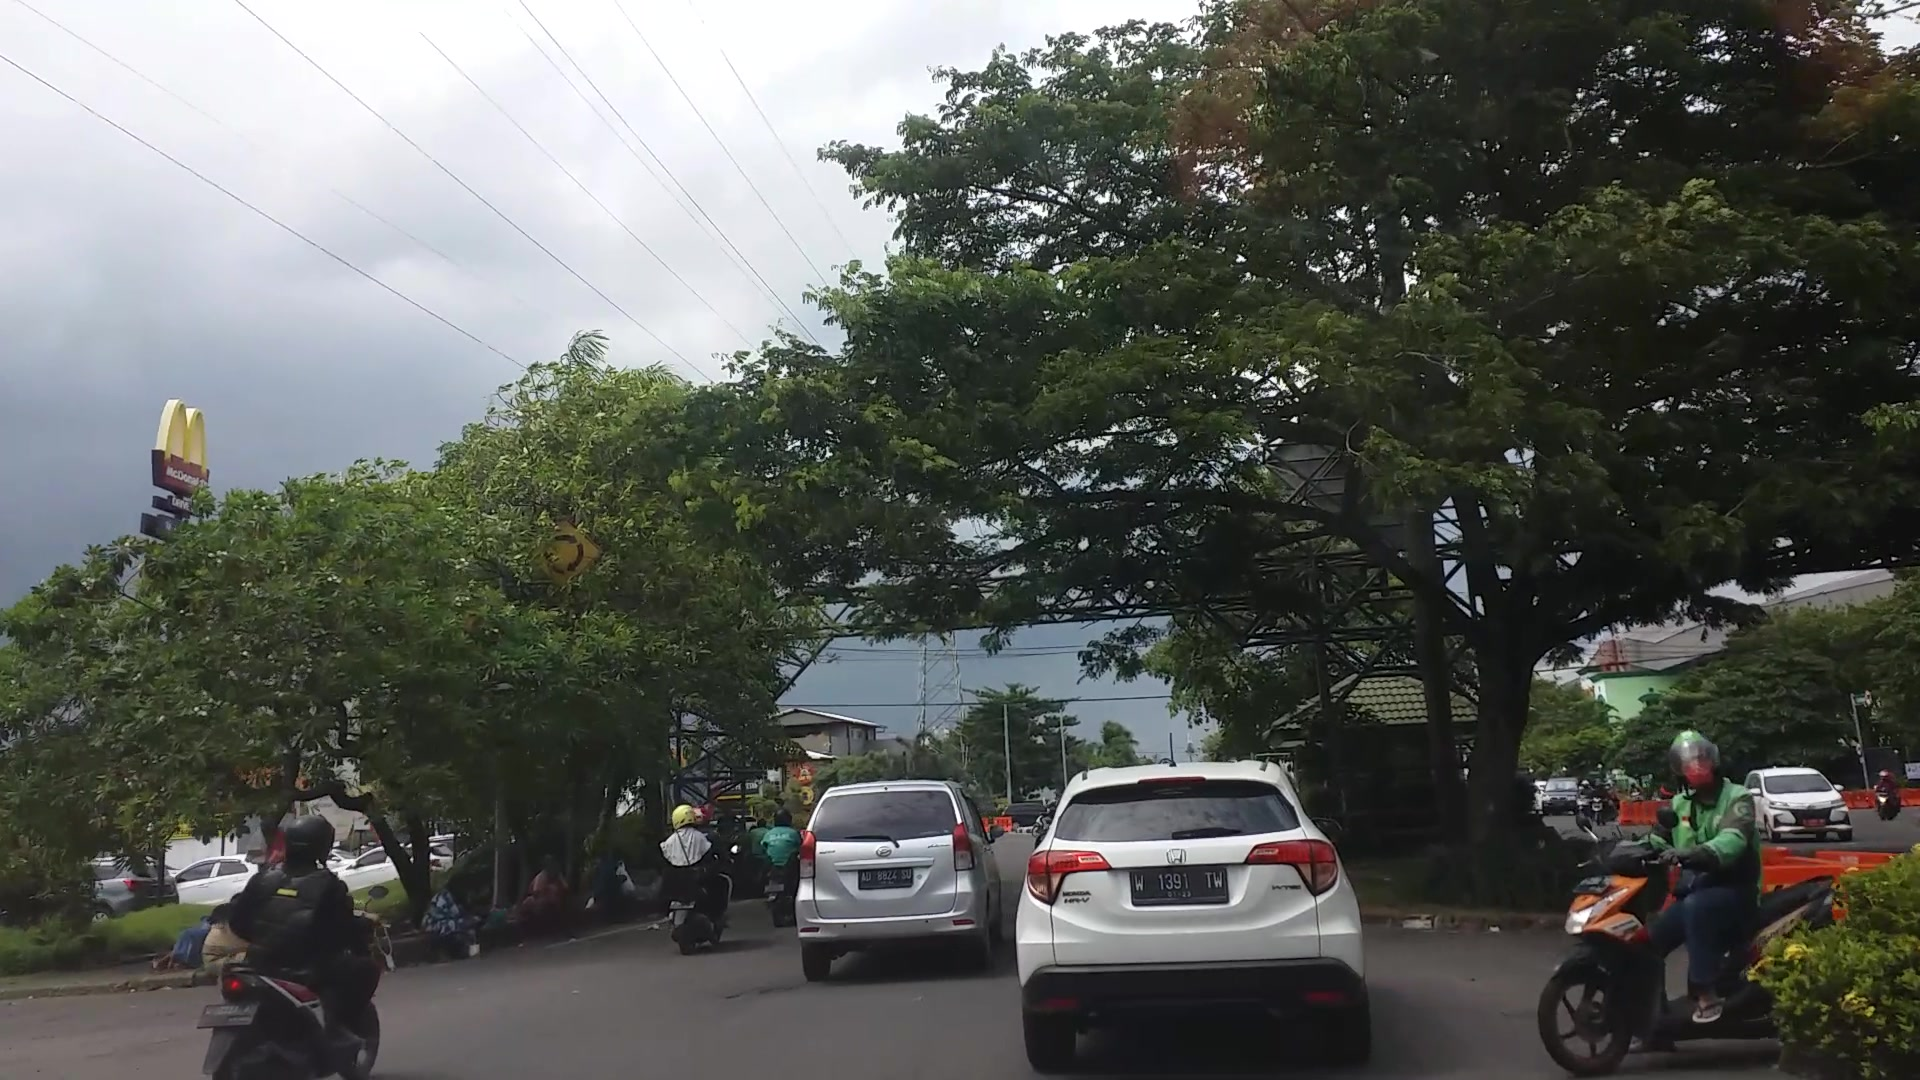plate_positive: (1130, 866, 1228, 905), (858, 870, 913, 889)
